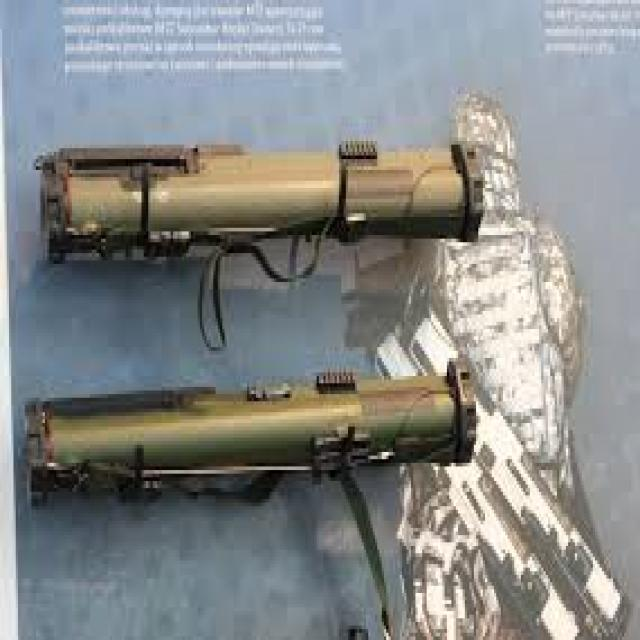bazooka: (14, 133, 493, 638)
